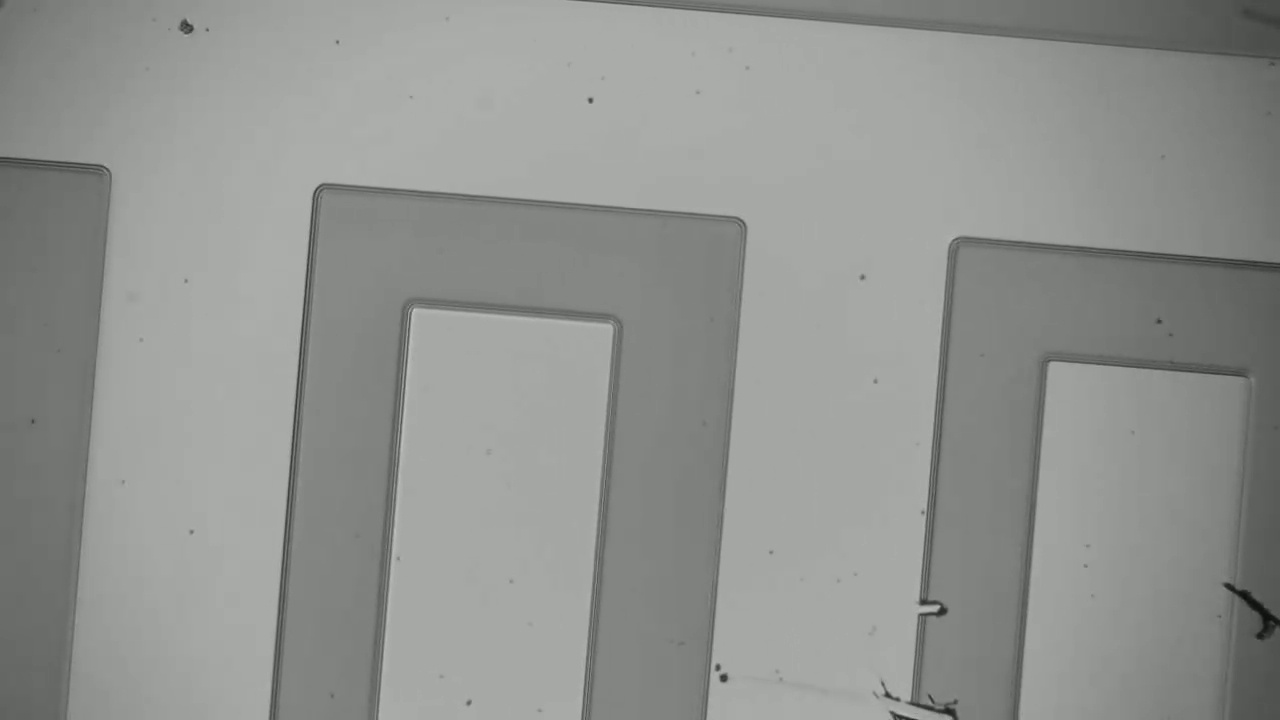Short_circuit: (870, 673, 1041, 720)
